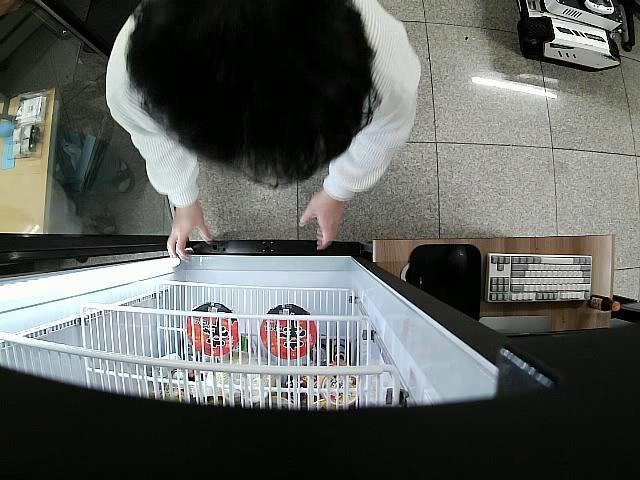00_hand: (297, 189, 343, 250), (166, 205, 213, 261)
